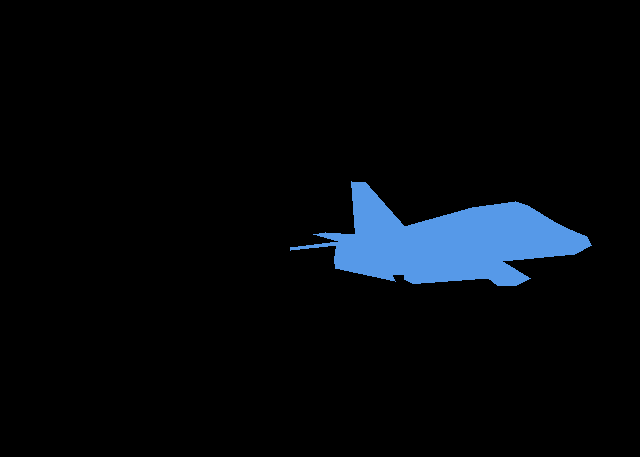Airplane: (290, 181, 592, 285)
